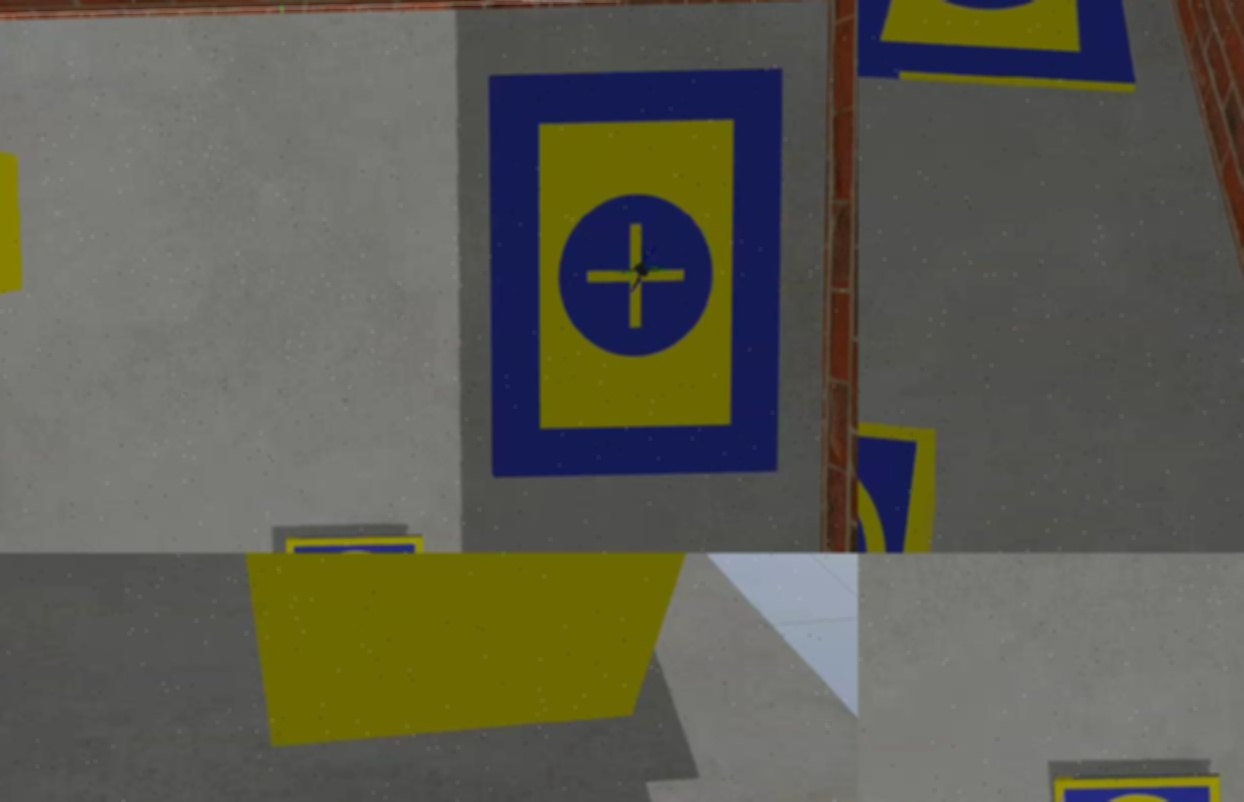large_base: (492, 67, 785, 481), (858, 1, 1135, 91)
small_base: (1053, 775, 1224, 802)
